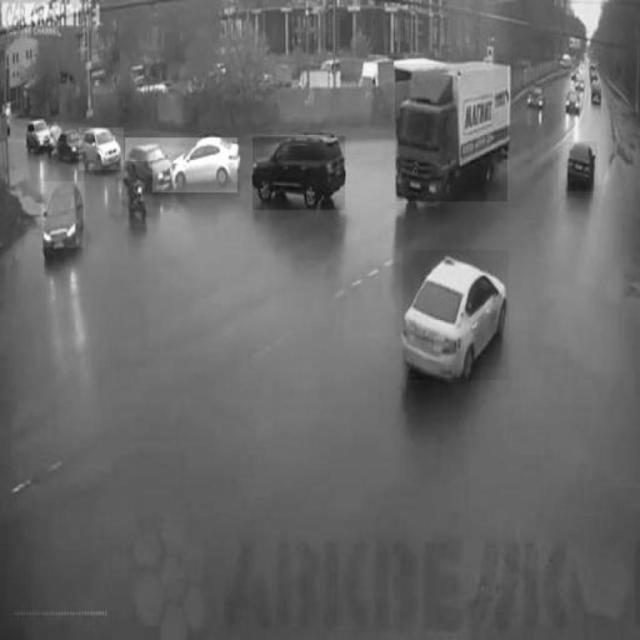accident: (125, 137, 237, 193)
vehicle: (395, 64, 507, 201), (403, 251, 509, 381), (252, 137, 344, 210), (42, 181, 86, 247), (79, 128, 124, 170), (125, 161, 152, 227), (565, 142, 597, 192)
